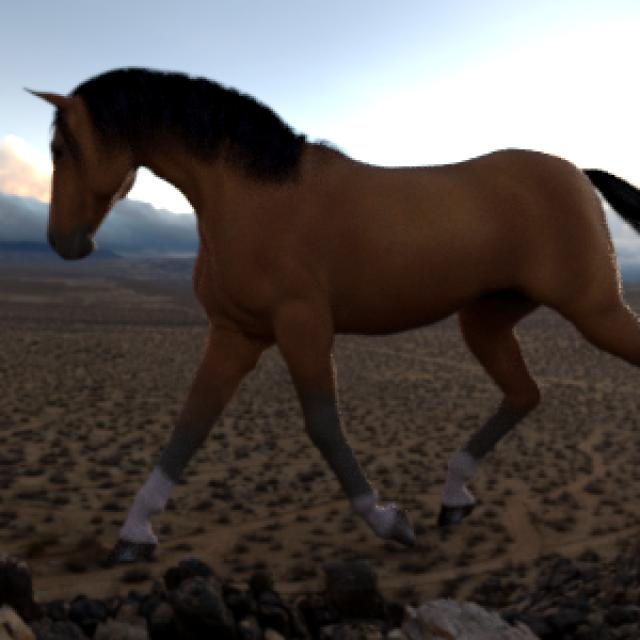horse: (34, 69, 640, 561)
